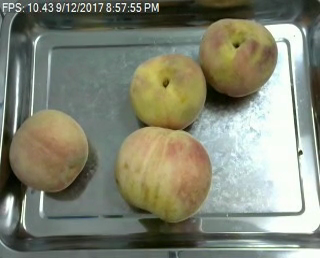Peach: (115, 126, 211, 222), (9, 107, 90, 193), (197, 18, 278, 98), (127, 53, 207, 128)
